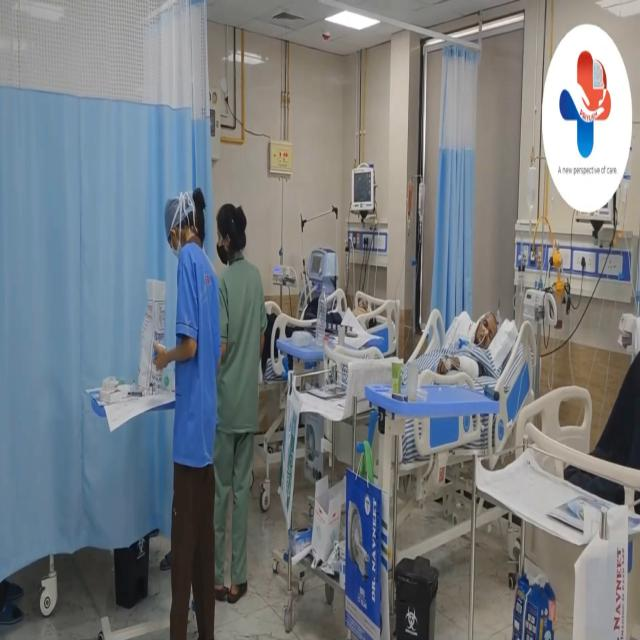Nurse: (155, 190, 220, 640), (216, 189, 262, 610), (444, 278, 512, 382), (338, 261, 379, 340)
